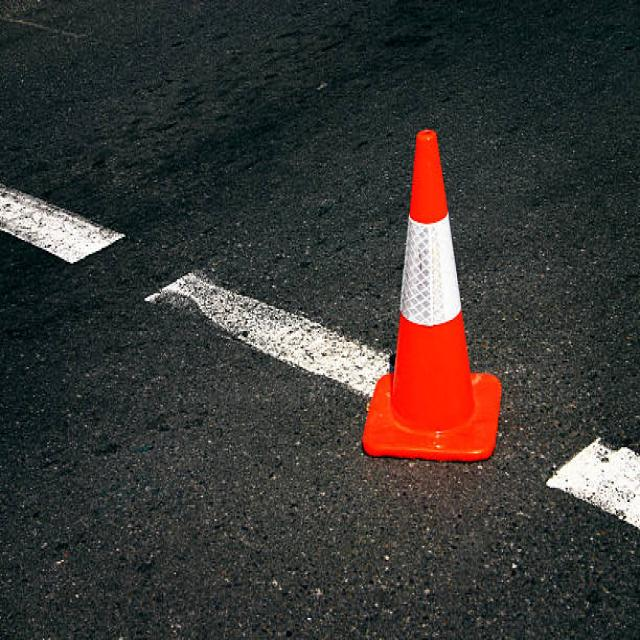Traffic Cone: (350, 99, 511, 476)
